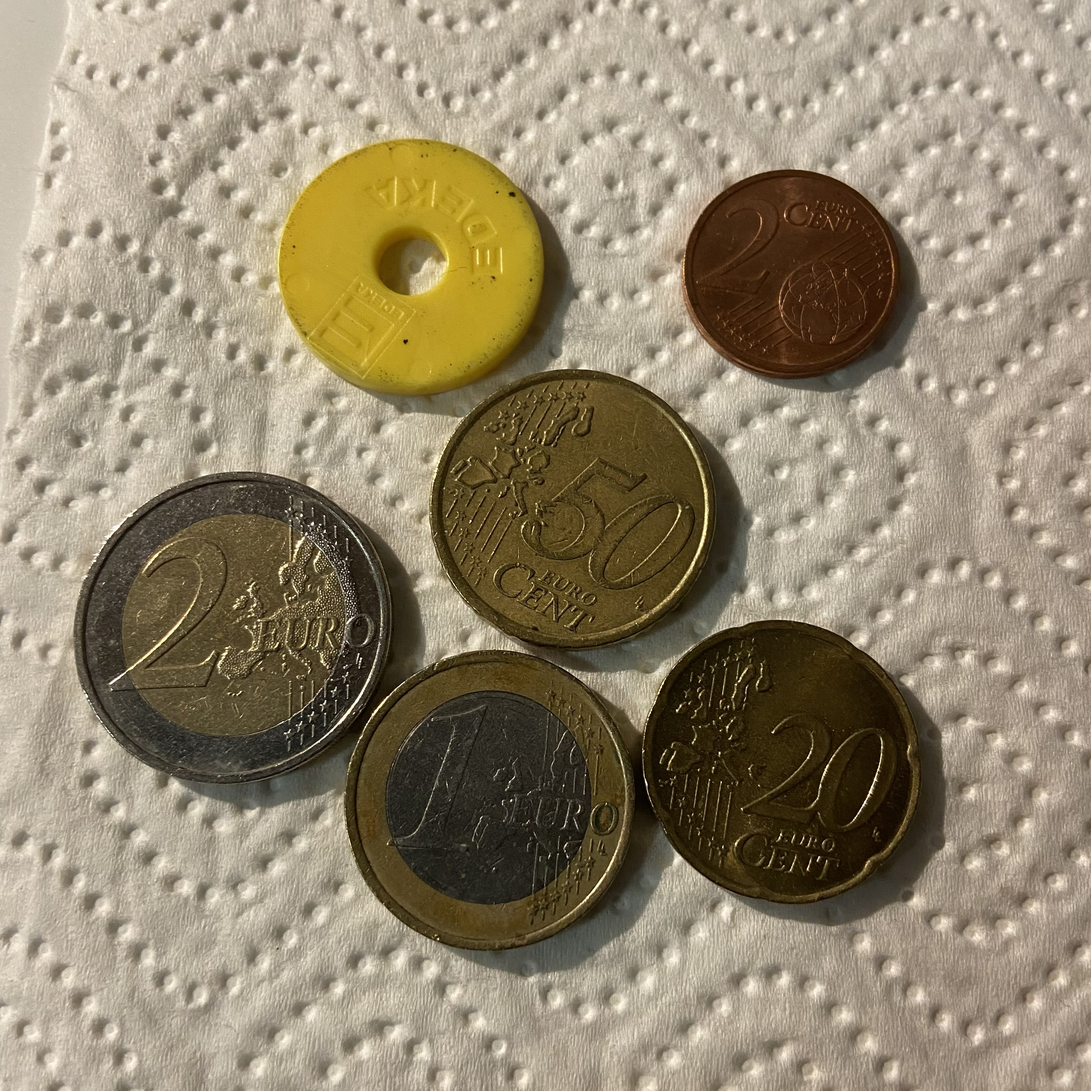1 euro: (345, 651, 635, 949)
2 cent: (680, 164, 914, 391)
2 euro: (67, 472, 390, 791)
20 cent: (643, 621, 920, 903)
50 cent: (431, 370, 714, 649)
